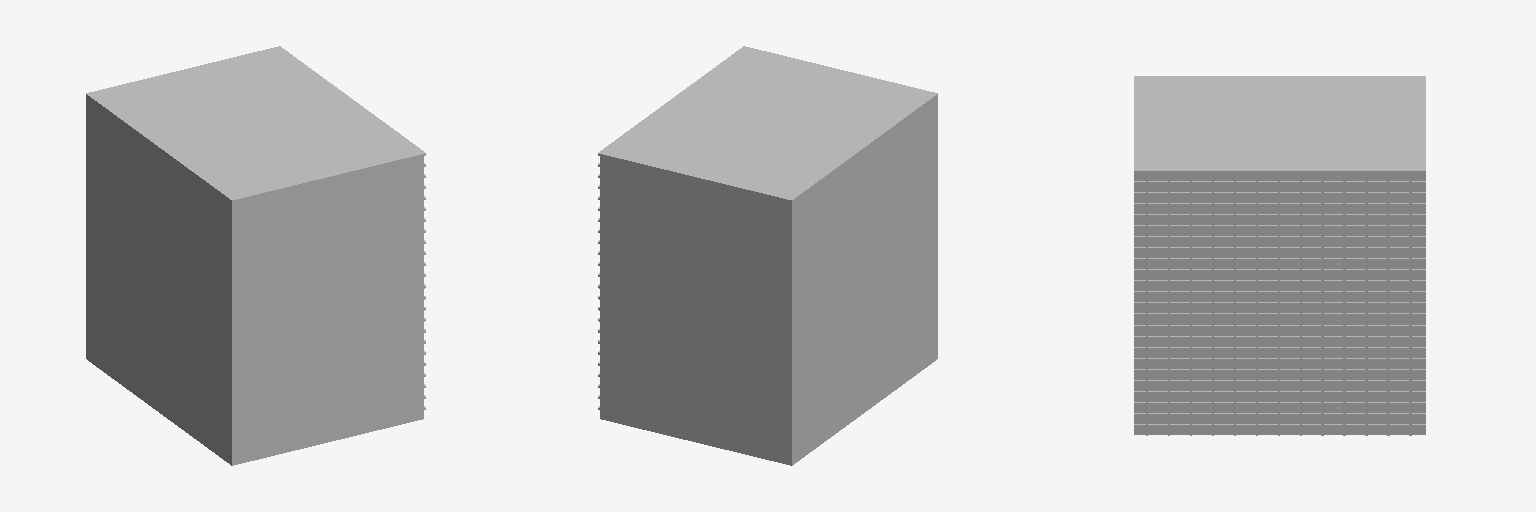
File: 3d fon 1.1-11.obj
3 views of the same model, side by side, from view 1: azimuth 30°, elevation 25°; view 2: azimuth 150°, elevation 25°; view 3: azimuth 270°, elevation 25° (orthographic).
Visible parts, largest first — view 1: object 1; view 2: object 1; view 3: object 1.
Boxes of the visible parts, x1,y1,x2,y2 form: object 1: [86, 46, 425, 465]; object 1: [598, 46, 937, 465]; object 1: [1134, 76, 1425, 435].
Size of the model in its own units: 9.2 by 12 by 12.